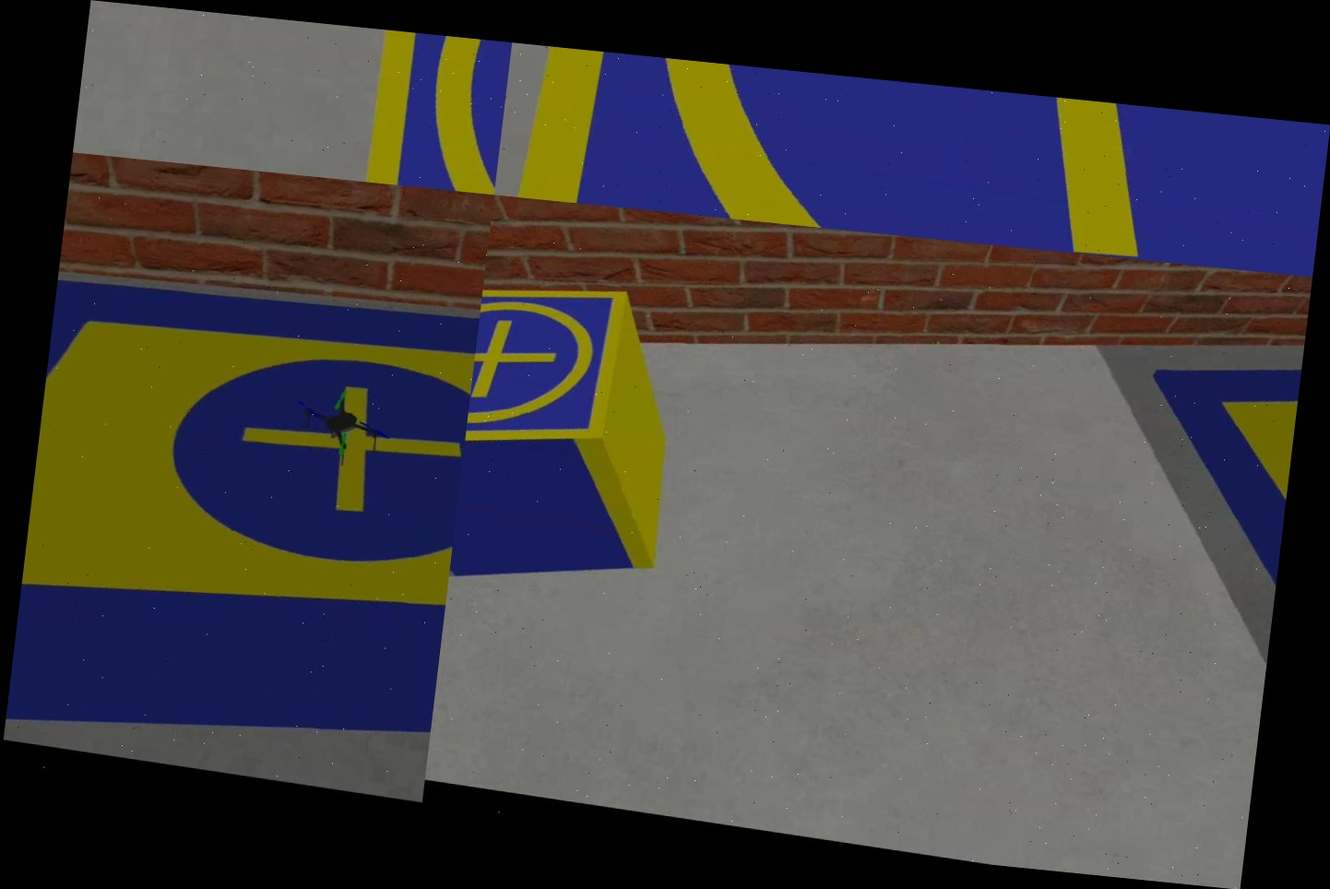large_base: (0, 240, 483, 807), (1089, 326, 1303, 764)
small_base: (499, 43, 1329, 278), (462, 268, 632, 479), (341, 27, 512, 195)
